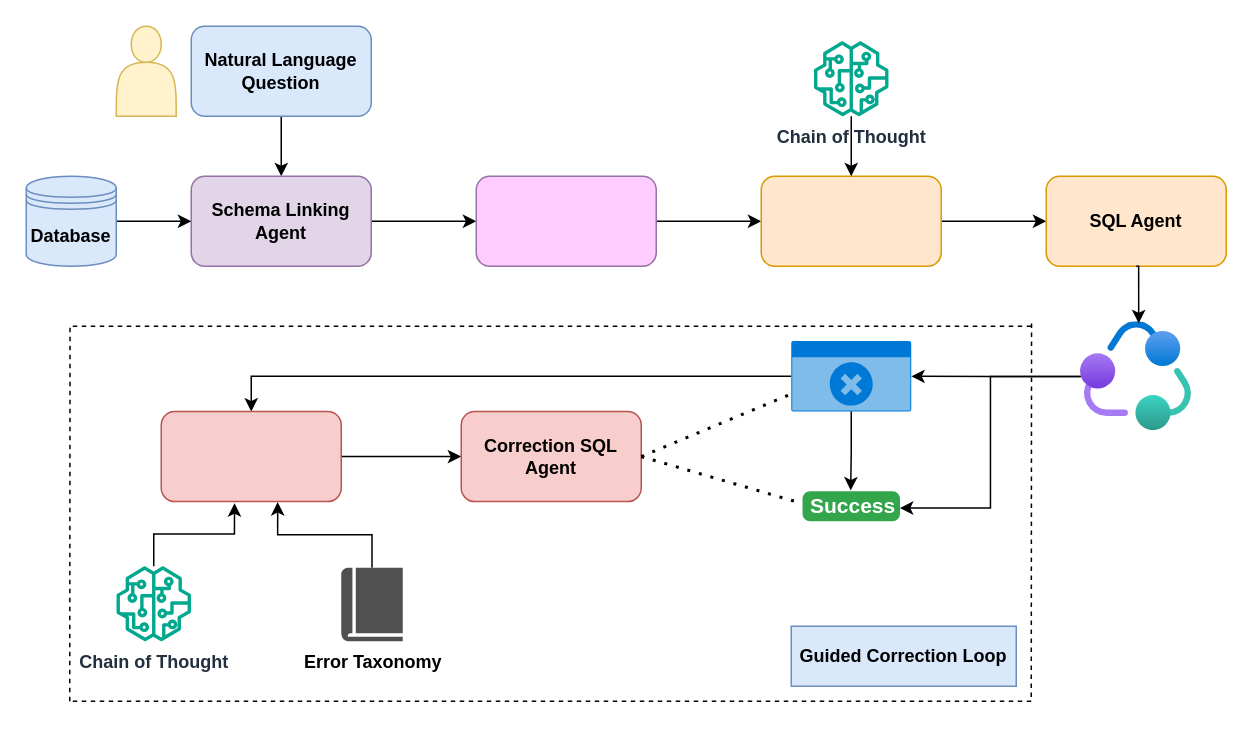
Some shapes in this 1253 by 729 pixel diagram are drawn without their labels. The shapes that lost their labels are listed below. From the top down, each one's centre as x and y in pixels, then its label:
At (565,220): "Subproblem Agent".
At (850,220): "Query Plan Agent".
At (850,375): "Error".
At (1135,375): "DB Execution Engine".
At (250,456): "Correction Plan Agent".
